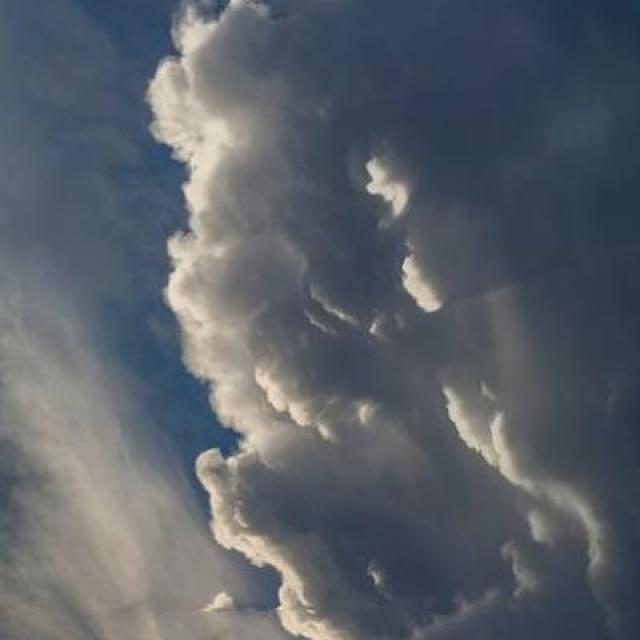Ns: (127, 1, 640, 585)
